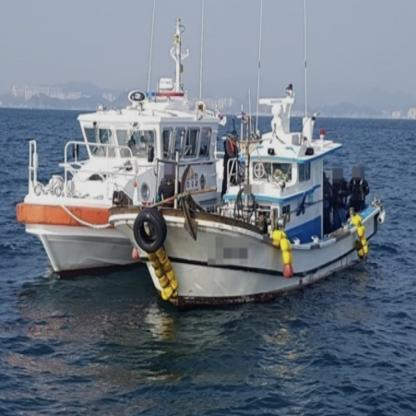fish-b: (106, 87, 391, 314), (13, 11, 235, 279)
